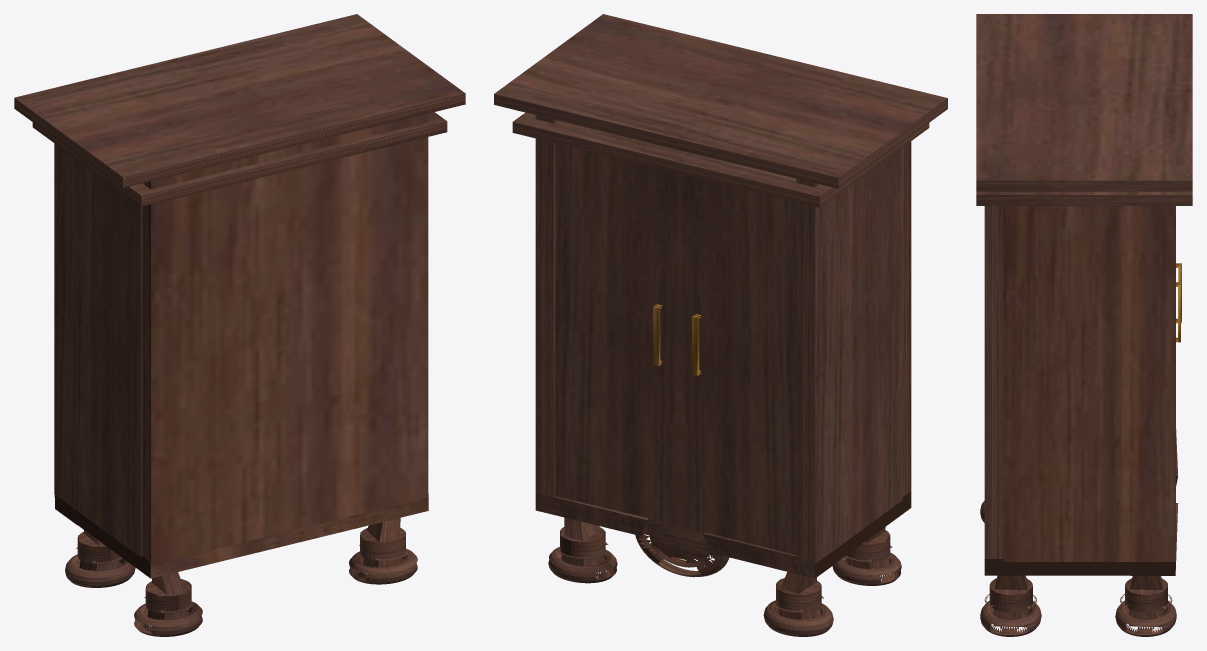
File: wardrobe.glb
3 views of the same model, side by side, from view 1: azimuth 30°, elevation 25°; view 2: azimuth 150°, elevation 25°; view 3: azimuth 270°, elevation 25° (orthographic).
Visible parts, largest first — view 1: Object_4; view 2: Object_4; view 3: Object_4.
Boxes of the visible parts, bbox=[...] form: Object_4: bbox=[14, 14, 465, 636]; Object_4: bbox=[494, 14, 947, 636]; Object_4: bbox=[976, 14, 1192, 636].
Size of the model in its own units: 0.0255 by 0.0339 by 0.014.
20 materials, 20 textured.
